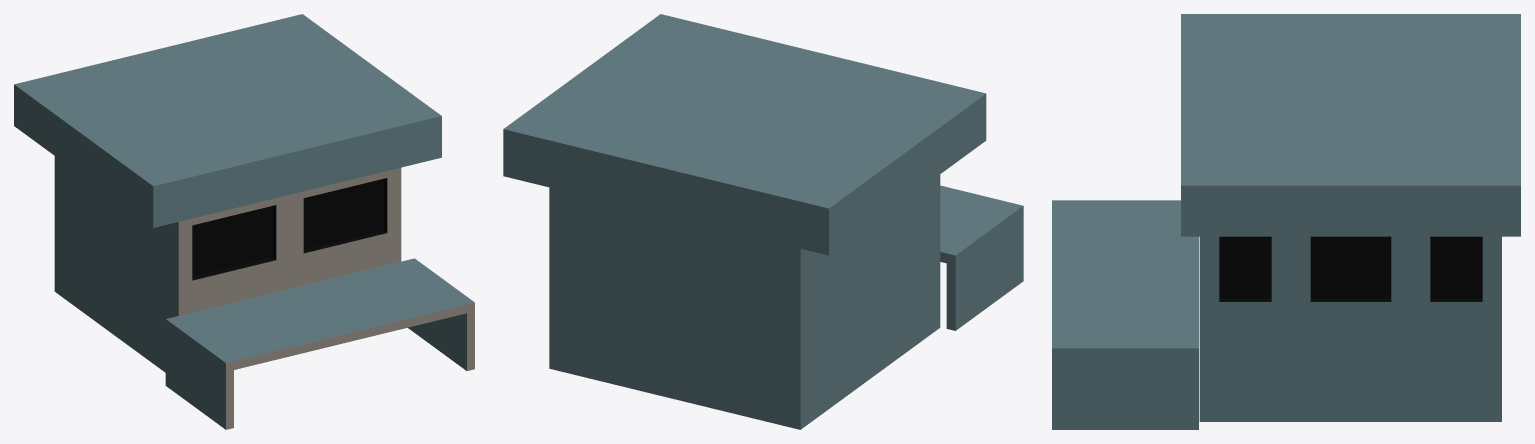
File: loja_28.fbx
The picture shows the model from 3 angles, left to right: view 1: azimuth 30°, elevation 25°; view 2: azimuth 150°, elevation 25°; view 3: azimuth 270°, elevation 25°; orthographic projection. The views are drawn at different scales.
Parts seen in each view (by area): view 1: Cube; view 2: Cube; view 3: Cube.
Boxes of the visible parts, x1,y1,x2,y2 form: Cube: (14, 14, 474, 429); Cube: (503, 14, 1023, 429); Cube: (1052, 14, 1520, 429).
Size of the model in its own units: 904 by 628 by 1043.
